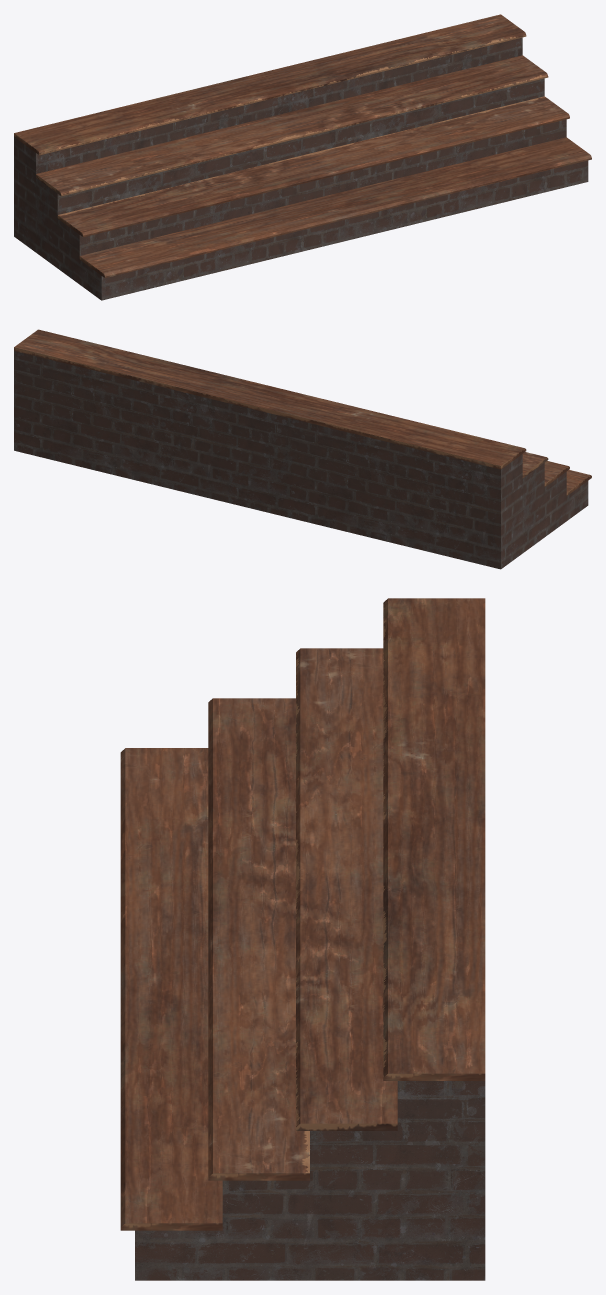
The model's file is Kit_LadderFour.fbx.
3 views of the same model, one above another, from view 1: azimuth 30°, elevation 25°; view 2: azimuth 150°, elevation 25°; view 3: azimuth 270°, elevation 25° (orthographic). The views are drawn at different scales.
Visible parts, largest first — view 1: Kit_LadderFour; view 2: Kit_LadderFour; view 3: Kit_LadderFour.
Boxes of the visible parts, left/top/right/bottom form: Kit_LadderFour: left=14, top=14, right=591, bottom=300; Kit_LadderFour: left=14, top=329, right=591, bottom=569; Kit_LadderFour: left=120, top=598, right=485, bottom=1280.
Bounding box in the file's own units: 139 × 28.3 × 45.18.
